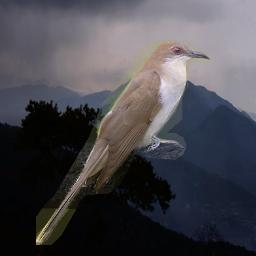Cuckoo: (36, 40, 212, 245)
